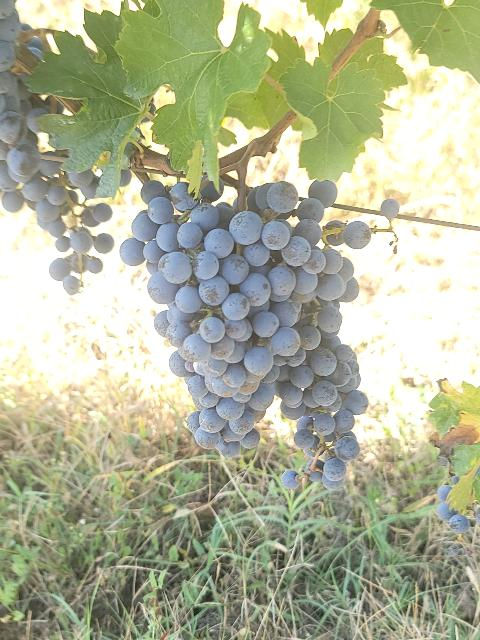grapes: (120, 182, 311, 456), (254, 180, 371, 490)
